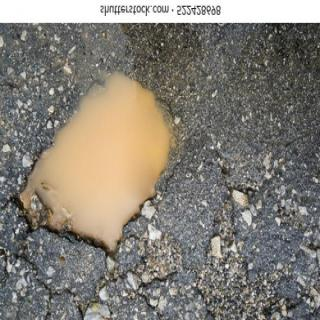pothole: (18, 72, 174, 261)
